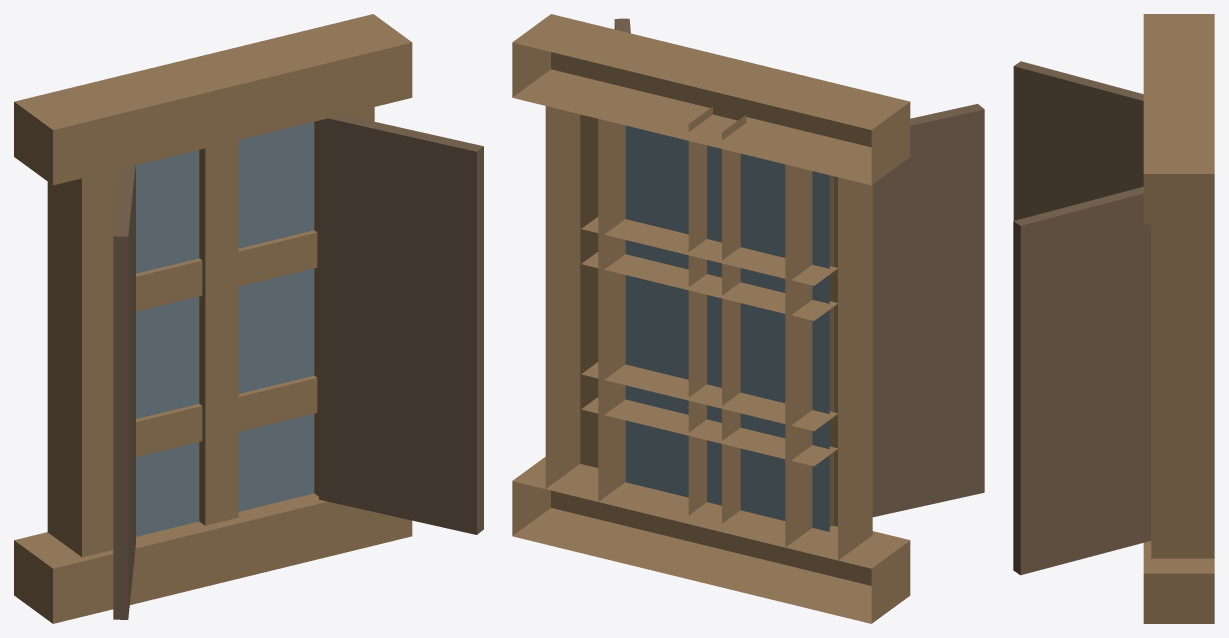
Rendered from House_Window_02.fbx.
The picture shows the model from 3 angles, left to right: view 1: azimuth 30°, elevation 25°; view 2: azimuth 150°, elevation 25°; view 3: azimuth 270°, elevation 25°; orthographic projection. The views are drawn at different scales.
Parts seen in each view (by area): view 1: pCube3374; view 2: pCube3374; view 3: pCube3374.
Part boxes in pixels (<box>): pCube3374: <box>14,14,483,623</box>; pCube3374: <box>512,14,984,623</box>; pCube3374: <box>1013,14,1214,623</box>.
Size of the model in its own units: 1.42 by 1.81 by 0.7317.
